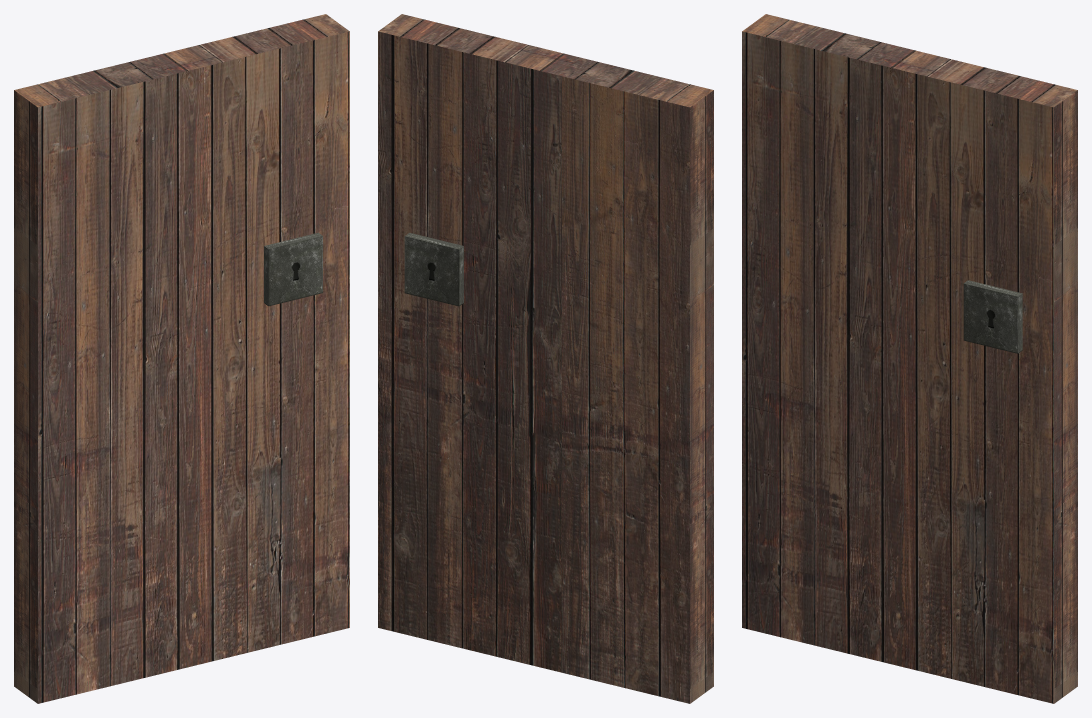
Rendered from Door.glb.
3 renders of one model, left to right at view 1: azimuth 30°, elevation 25°; view 2: azimuth 150°, elevation 25°; view 3: azimuth 330°, elevation 25°, orthographic.
Parts seen in each view (by area): view 1: Door, Lock; view 2: Door; view 3: Door, Lock.
Part boxes in pixels (x1,y1,x2,y2): Door: (14, 14, 349, 703); Lock: (264, 232, 322, 306); Door: (378, 14, 713, 703); Door: (742, 14, 1077, 703); Lock: (963, 280, 1022, 353).
Bounding box in the file's own units: 1.39 × 2.55 × 0.2573.
Materials: 2 (2 with a texture image).
